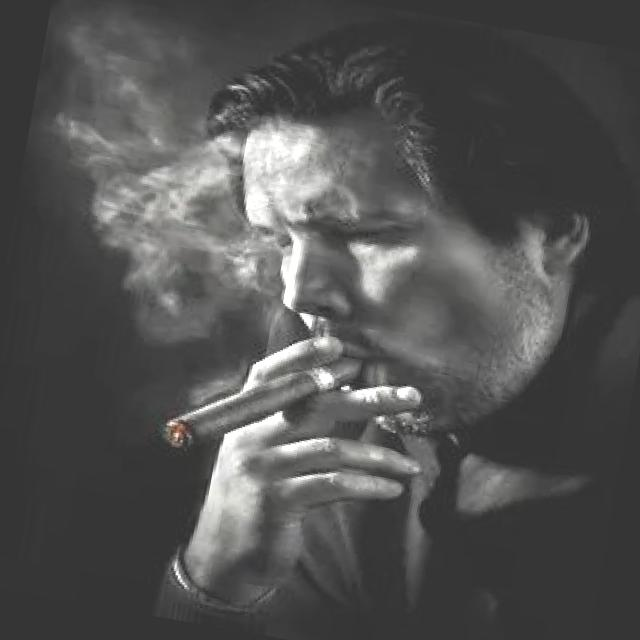cigarette: (157, 322, 366, 482)
